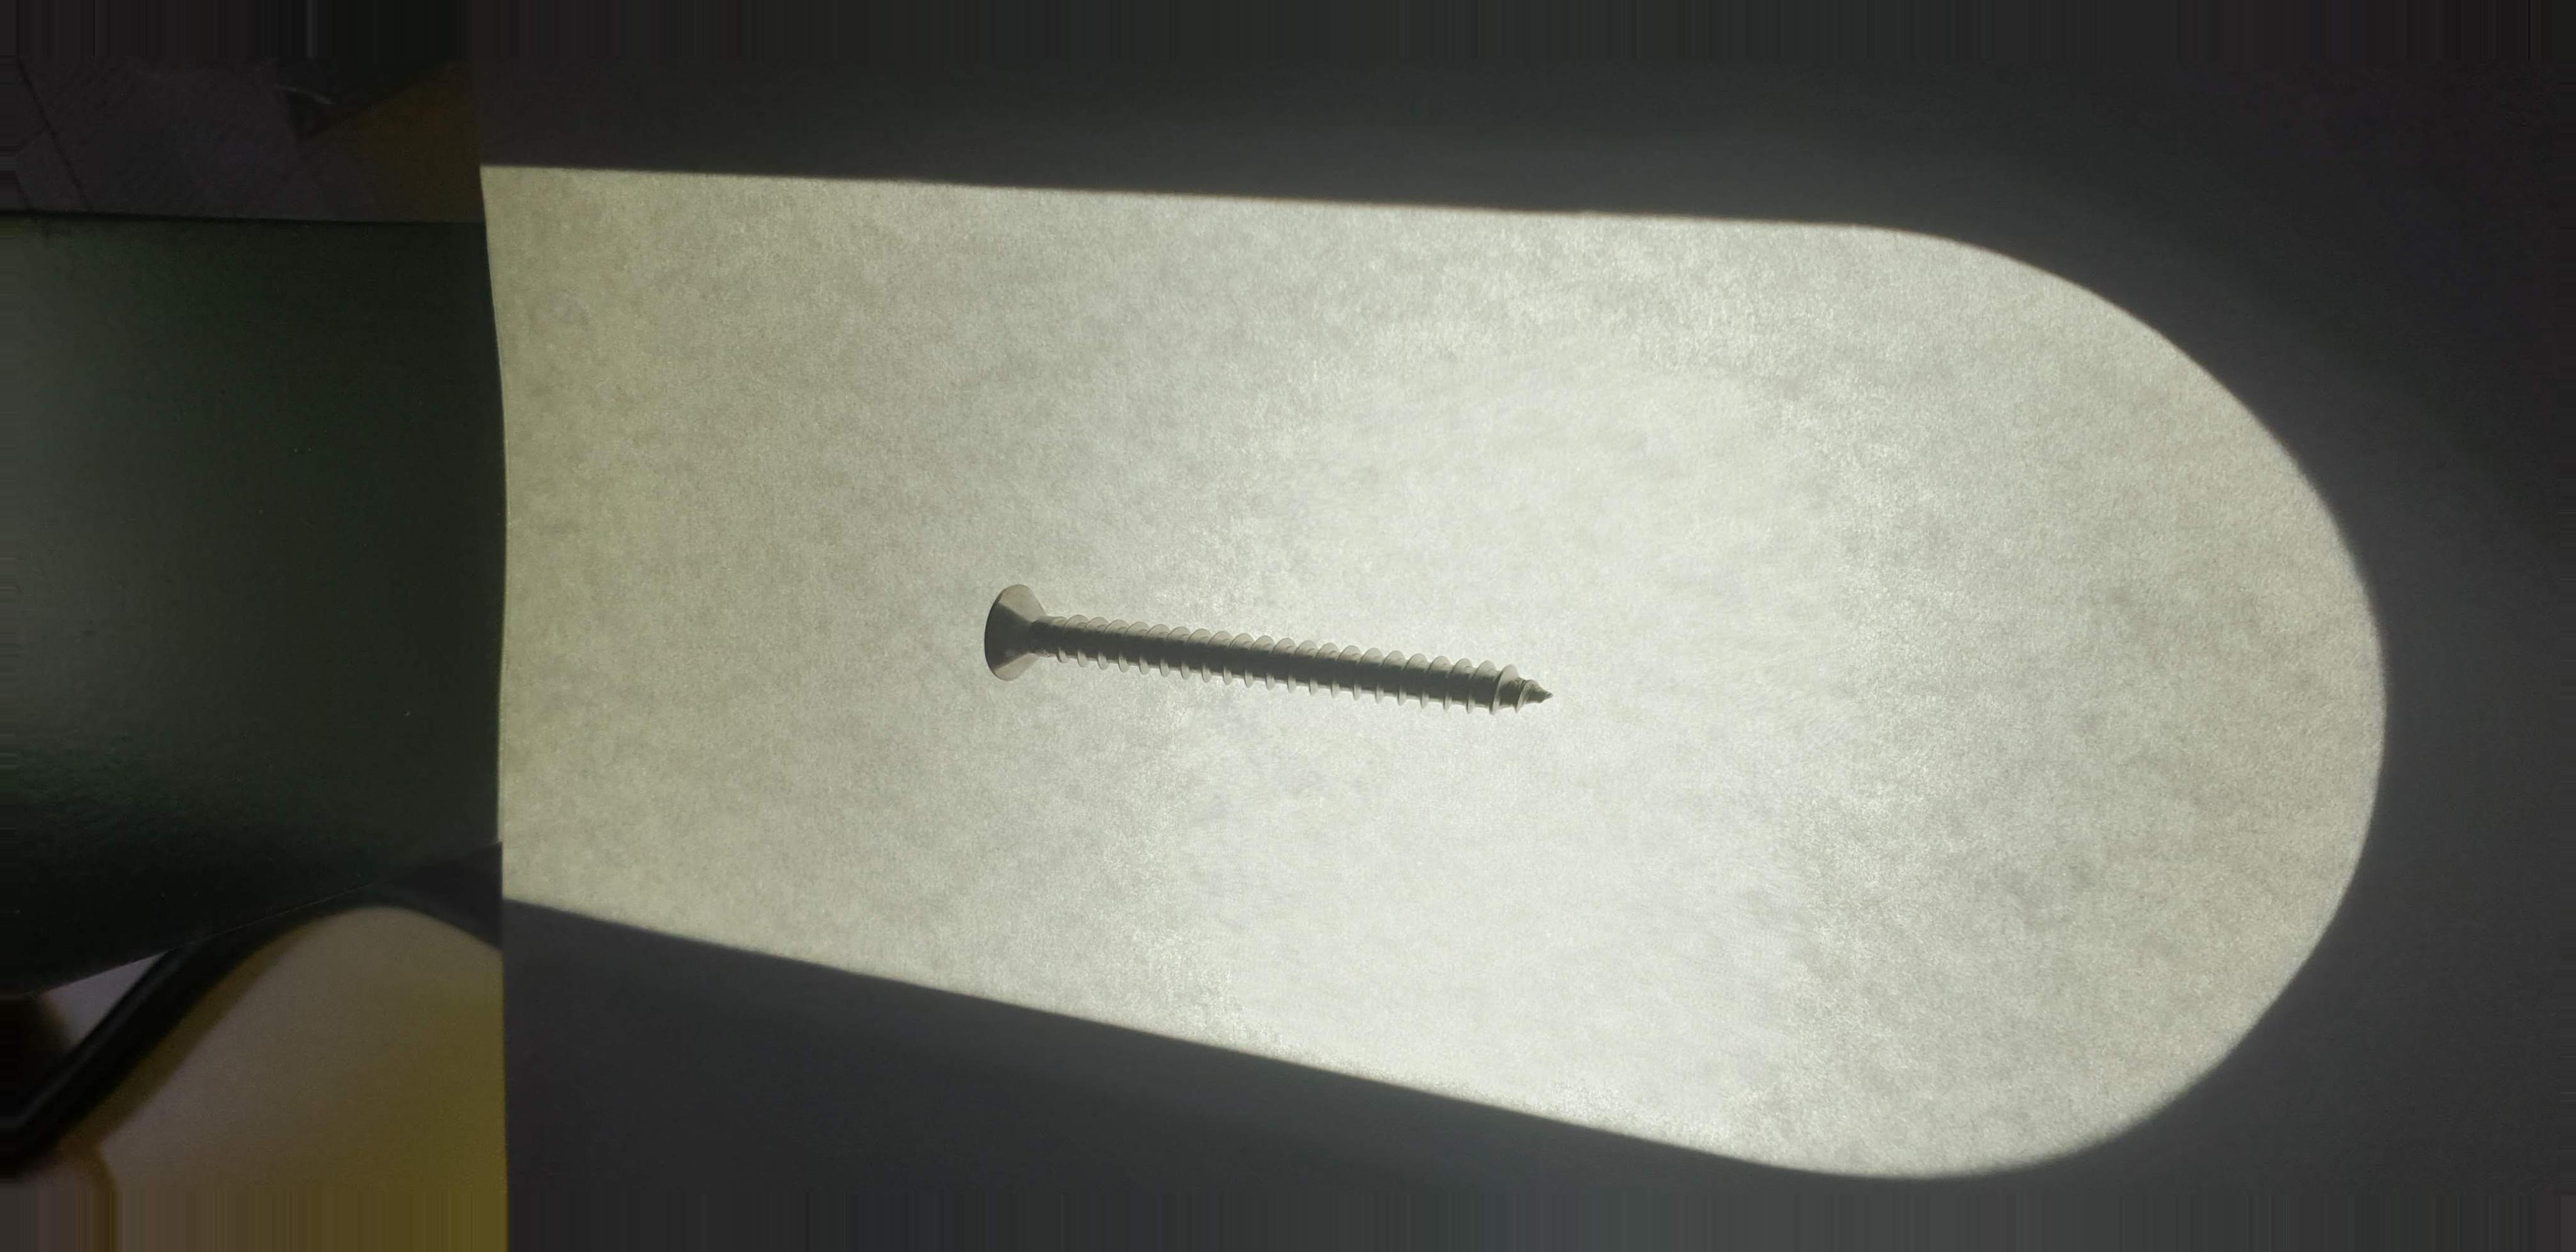S001: (959, 552, 1587, 756)
